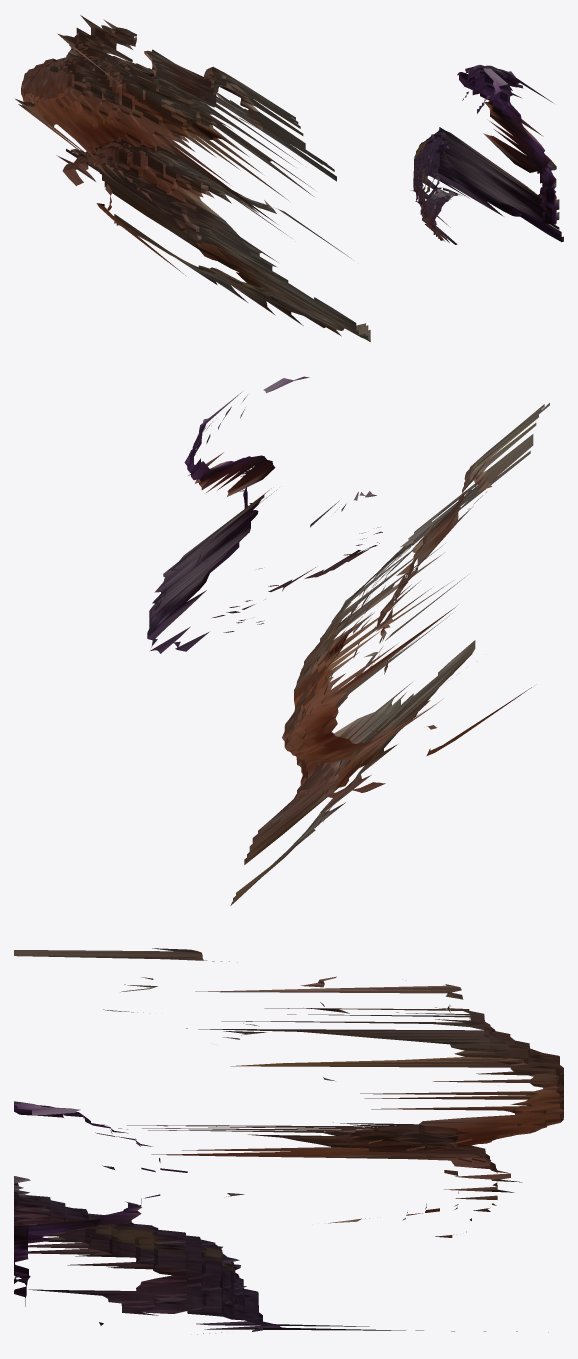
File: frame_00290.glb
3 renders of one model, top to bottom at view 1: azimuth 30°, elevation 25°; view 2: azimuth 150°, elevation 25°; view 3: azimuth 270°, elevation 25°, orthographic. The views are drawn at different scales.
Parts seen in each view (by area): view 1: geometry_0; view 2: geometry_0; view 3: geometry_0.
Boxes of the visible parts, left/top/right/bottom form: geometry_0: left=15, top=15, right=563, bottom=341; geometry_0: left=147, top=376, right=549, bottom=905; geometry_0: left=14, top=948, right=563, bottom=1334.
Bounding box in the file's own units: 0.1357 × 0.1124 × 0.16.
1 material, 1 textured.
